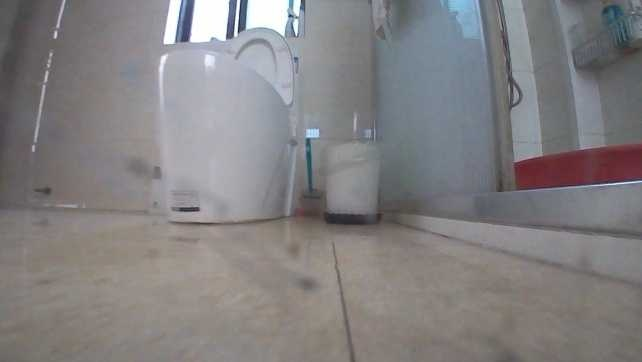door_sill: (502, 179, 640, 286)
toilet: (153, 24, 303, 226)
